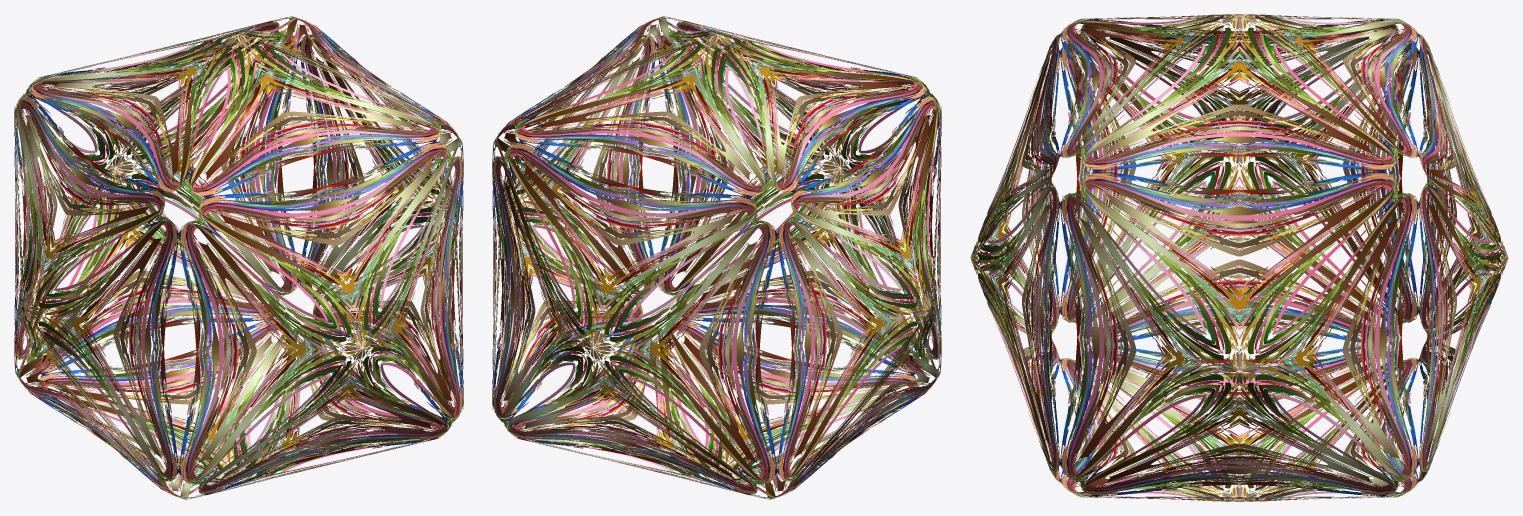
Rendered from TetrakisHexahedron9.obj.
3 renders of one model, left to right at view 1: azimuth 30°, elevation 25°; view 2: azimuth 150°, elevation 25°; view 3: azimuth 270°, elevation 25°, orthographic. The views are drawn at different scales.
Bounding box in the file's own units: 3.18 × 3.18 × 3.18.
Materials: 1 (1 with a texture image).
